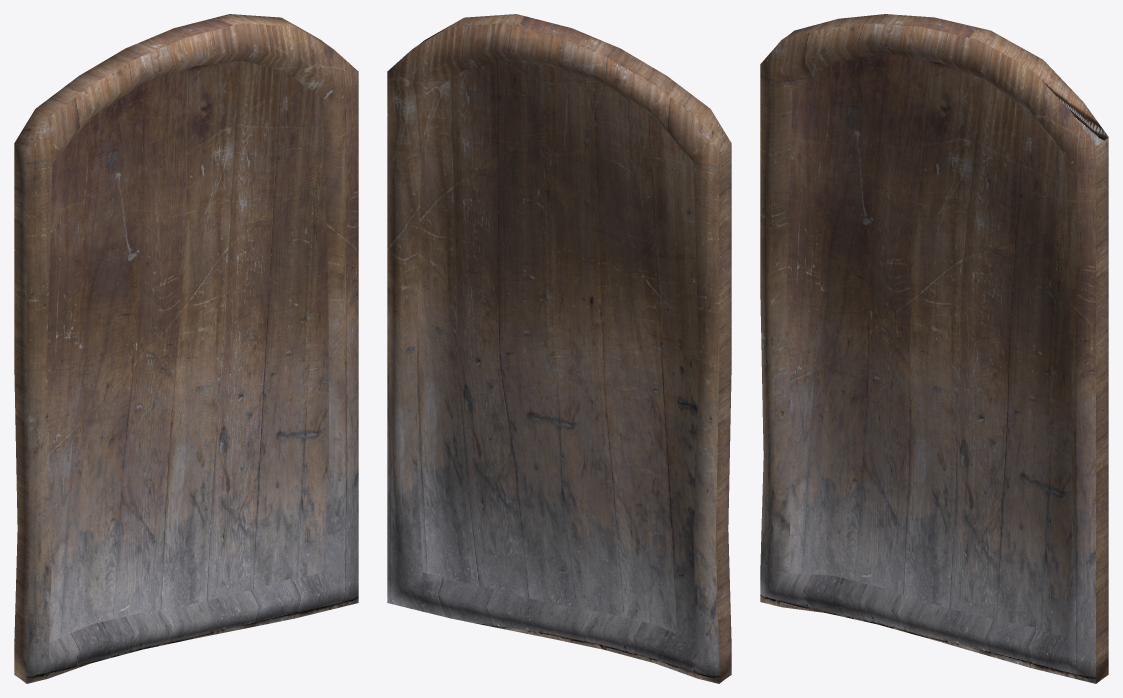
The model's file is PriestGraveStone.FBX.
The picture shows the model from 3 angles, left to right: view 1: azimuth 30°, elevation 25°; view 2: azimuth 150°, elevation 25°; view 3: azimuth 330°, elevation 25°; orthographic projection.
Parts seen in each view (by area): view 1: Object183; view 2: Object183; view 3: Object183.
Boxes of the visible parts, box(x1,y1,x2,y2) form: Object183: box(14, 14, 358, 683); Object183: box(387, 14, 731, 683); Object183: box(760, 14, 1108, 683).
Bounding box in the file's own units: 80.4 × 141 × 10.62.
